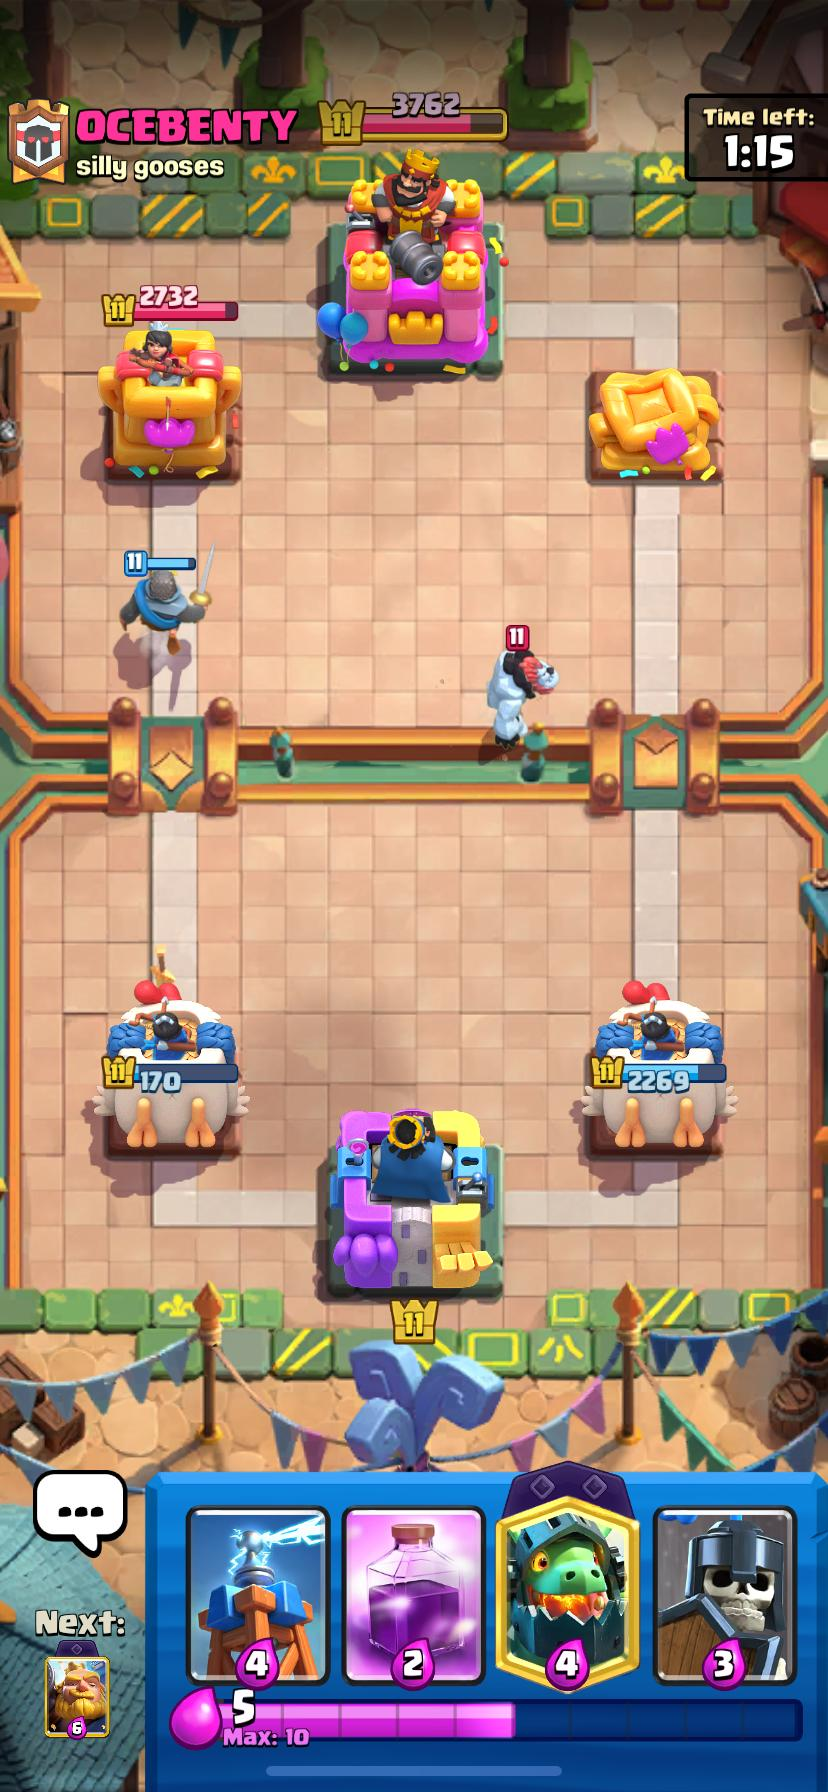EIceGolem: (487, 649, 558, 747)
EKingTower: (318, 149, 497, 377)
EnemyPrincessTower: (98, 325, 241, 479)
OKnight: (120, 568, 210, 654)
OwnKingTower: (328, 1109, 502, 1295)
OwnPrincessTower: (582, 981, 735, 1152), (94, 997, 247, 1150)
TowerDown: (589, 369, 719, 480)
